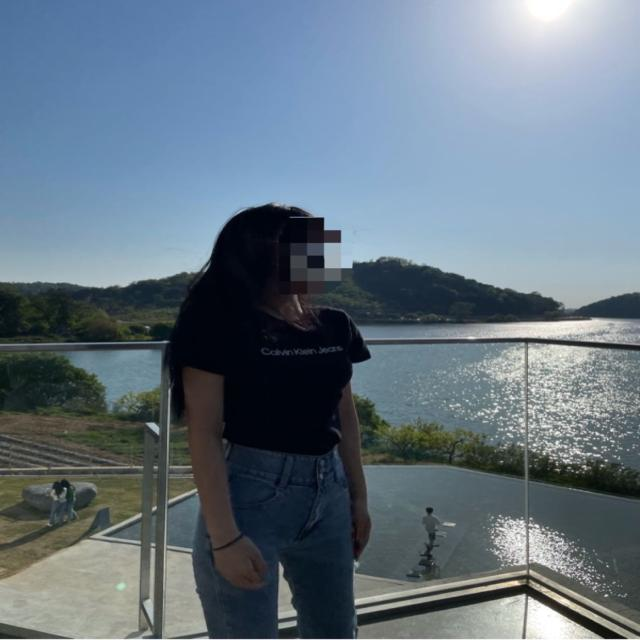denimpants: (194, 441, 358, 639)
shortsleeve: (172, 290, 371, 452)
